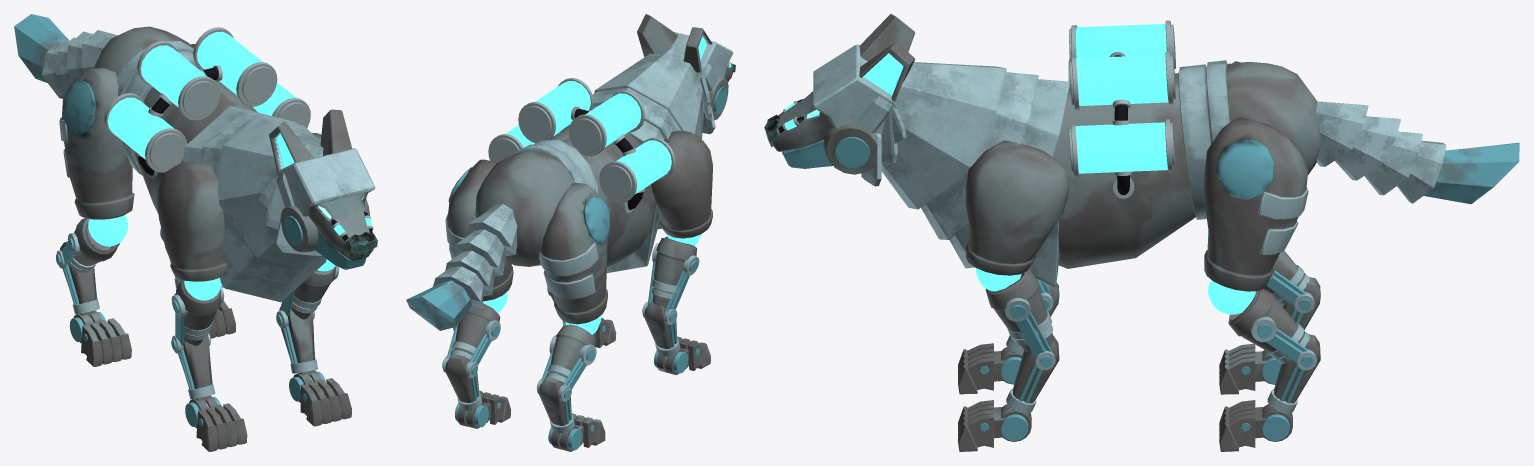
The model's file is RCP_v06k_UV_SP_v01a.glb.
The picture shows the model from 3 angles, left to right: view 1: azimuth 30°, elevation 25°; view 2: azimuth 150°, elevation 25°; view 3: azimuth 270°, elevation 25°; orthographic projection. The views are drawn at different scales.
Visible parts, largest first — view 1: FCSET_Neck_Plates_1_001_0p018_0p591_0p758 group5 Body Neck_P, FCSET_Upper_Leg_001_0p229_0p094_0p247 Leggies group5 Front_L, FCSET_Upper_Leg_001_0p615_0p907_0p416 Leggies group5 Back_Le, FCSET_Head_001_0p397_0p023_0p537 group5 Head Head, FCSET_Neck_Plates_2_001_0p715_0p194_0p632 group5 Body Neck_P, FCSET_Neck_Plates_3_001_0p648_0p472_0p743 group5 Body Neck_P, FCSET_Snoot_001_0p925_0p677_0p979 group5 Head Snoot, FCSET_Torso_001_0p143_0p416_0p949 group5 Torso Body, FCSET_Glass_Cannister_001_0p877_0p636_0p906 group5 Body_Cann, FCSET_Glass_Cannister_001_0p408_0p034_0p085 group5 Body_Cann, FCSET_Glass_Cannister_001_0p631_0p954_0p94 group5 Left_Canni, FCSET_Tail_Plates_5_001_0p482_0p622_0p747 group5 Tail Tail_P (+45 smaller); view 2: FCSET_Upper_Leg_001_0p615_0p907_0p416 Leggies group5 Back_Le, FCSET_Rump_001_0p273_0p546_0p154 group5 Body Rump, FCSET_Upper_Leg_001_0p229_0p094_0p247 Leggies group5 Front_L, FCSET_Neck_Plates_1_001_0p018_0p591_0p758 group5 Body Neck_P, FCSET_Torso_001_0p143_0p416_0p949 group5 Torso Body, FCSET_Upper_Leg_001_0p023_0p816_0p848 Back_Leg_1 Leggies gro, FCSET_Tail_Plates_5_001_0p482_0p622_0p747 group5 Tail Tail_P, FCSET_Glass_Cannister_001_0p877_0p636_0p906 group5 Body_Cann, FCSET_Glass_Cannister_001_0p408_0p034_0p085 group5 Body_Cann, FCSET_Back_Top_Leg_3_001_0p551_0p821_0p874 Leggies group5 Ba, FCSET_Glass_Cannister_001_0p631_0p954_0p94 group5 Left_Canni, FCSET_Tail_Plates_1_001_0p296_0p871_0p455 group5 Tail Tail_P (+33 smaller); view 3: FCSET_Torso_001_0p143_0p416_0p949 group5 Torso Body, FCSET_Neck_Plates_1_001_0p018_0p591_0p758 group5 Body Neck_P, FCSET_Upper_Leg_001_0p023_0p816_0p848 Back_Leg_1 Leggies gro, FCSET_Upper_Leg_001_0p888_0p04_0p125 Leggies group5 Front_Le, FCSET_Rump_001_0p273_0p546_0p154 group5 Body Rump, FCSET_Neck_Plates_2_001_0p715_0p194_0p632 group5 Body Neck_P, FCSET_Glass_Cannister_001_0p752_0p339_0p474 group5 Left_Cann, FCSET_Glass_Cannister_001_0p631_0p954_0p94 group5 Left_Canni, FCSET_Head_001_0p397_0p023_0p537 group5 Head Head, FCSET_Tail_Plates_5_001_0p482_0p622_0p747 group5 Tail Tail_P, FCSET_Waist_Wrap_1_001_0p61_0p539_0p742 group5 Body Waist_Wr, FCSET_Neck_Plates_3_001_0p648_0p472_0p743 group5 Body Neck_P (+24 smaller).
Boxes of the visible parts, x1=… form: FCSET_Neck_Plates_1_001_0p018_0p591_0p758 group5 Body Neck_P: x1=217, y1=114, x2=323, y2=269; FCSET_Upper_Leg_001_0p229_0p094_0p247 Leggies group5 Front_L: x1=157, y1=161, x2=227, y2=281; FCSET_Upper_Leg_001_0p615_0p907_0p416 Leggies group5 Back_Le: x1=59, y1=67, x2=134, y2=219; FCSET_Head_001_0p397_0p023_0p537 group5 Head Head: x1=276, y1=148, x2=375, y2=216; FCSET_Neck_Plates_2_001_0p715_0p194_0p632 group5 Body Neck_P: x1=200, y1=110, x2=324, y2=285; FCSET_Neck_Plates_3_001_0p648_0p472_0p743 group5 Body Neck_P: x1=183, y1=106, x2=326, y2=302; FCSET_Snoot_001_0p925_0p677_0p979 group5 Head Snoot: x1=308, y1=192, x2=373, y2=260; FCSET_Torso_001_0p143_0p416_0p949 group5 Torso Body: x1=135, y1=67, x2=257, y2=213; FCSET_Glass_Cannister_001_0p877_0p636_0p906 group5 Body_Cann: x1=141, y1=45, x2=207, y2=107; FCSET_Glass_Cannister_001_0p408_0p034_0p085 group5 Body_Cann: x1=107, y1=97, x2=174, y2=159; FCSET_Glass_Cannister_001_0p631_0p954_0p94 group5 Left_Canni: x1=197, y1=31, x2=262, y2=95; FCSET_Tail_Plates_5_001_0p482_0p622_0p747 group5 Tail Tail_P: x1=14, y1=14, x2=68, y2=82; FCSET_Upper_Leg_001_0p615_0p907_0p416 Leggies group5 Back_Le: x1=539, y1=183, x2=607, y2=324; FCSET_Rump_001_0p273_0p546_0p154 group5 Body Rump: x1=475, y1=151, x2=574, y2=266; FCSET_Upper_Leg_001_0p229_0p094_0p247 Leggies group5 Front_L: x1=651, y1=130, x2=712, y2=238; FCSET_Neck_Plates_1_001_0p018_0p591_0p758 group5 Body Neck_P: x1=594, y1=48, x2=703, y2=138; FCSET_Torso_001_0p143_0p416_0p949 group5 Torso Body: x1=550, y1=126, x2=658, y2=266; FCSET_Upper_Leg_001_0p023_0p816_0p848 Back_Leg_1 Leggies gro: x1=445, y1=159, x2=513, y2=301; FCSET_Tail_Plates_5_001_0p482_0p622_0p747 group5 Tail Tail_P: x1=406, y1=280, x2=471, y2=330; FCSET_Glass_Cannister_001_0p877_0p636_0p906 group5 Body_Cann: x1=586, y1=93, x2=641, y2=146; FCSET_Glass_Cannister_001_0p408_0p034_0p085 group5 Body_Cann: x1=616, y1=140, x2=671, y2=194; FCSET_Back_Top_Leg_3_001_0p551_0p821_0p874 Leggies group5 Ba: x1=653, y1=236, x2=697, y2=308; FCSET_Glass_Cannister_001_0p631_0p954_0p94 group5 Left_Canni: x1=535, y1=81, x2=590, y2=134; FCSET_Tail_Plates_1_001_0p296_0p871_0p455 group5 Tail Tail_P: x1=467, y1=204, x2=517, y2=256; FCSET_Torso_001_0p143_0p416_0p949 group5 Torso Body: x1=1052, y1=73, x2=1207, y2=268; FCSET_Neck_Plates_1_001_0p018_0p591_0p758 group5 Body Neck_P: x1=881, y1=62, x2=1006, y2=209; FCSET_Upper_Leg_001_0p023_0p816_0p848 Back_Leg_1 Leggies gro: x1=1204, y1=117, x2=1308, y2=291; FCSET_Upper_Leg_001_0p888_0p04_0p125 Leggies group5 Front_Le: x1=965, y1=140, x2=1069, y2=275; FCSET_Rump_001_0p273_0p546_0p154 group5 Body Rump: x1=1206, y1=62, x2=1322, y2=175; FCSET_Neck_Plates_2_001_0p715_0p194_0p632 group5 Body Neck_P: x1=921, y1=72, x2=1038, y2=239; FCSET_Glass_Cannister_001_0p752_0p339_0p474 group5 Left_Cann: x1=1075, y1=122, x2=1167, y2=173; FCSET_Glass_Cannister_001_0p631_0p954_0p94 group5 Left_Canni: x1=1076, y1=54, x2=1168, y2=105; FCSET_Head_001_0p397_0p023_0p537 group5 Head Head: x1=813, y1=44, x2=899, y2=135; FCSET_Tail_Plates_5_001_0p482_0p622_0p747 group5 Tail Tail_P: x1=1424, y1=142, x2=1519, y2=204; FCSET_Waist_Wrap_1_001_0p61_0p539_0p742 group5 Body Waist_Wr: x1=1178, y1=64, x2=1210, y2=219; FCSET_Neck_Plates_3_001_0p648_0p472_0p743 group5 Body Neck_P: x1=949, y1=79, x2=1070, y2=268.
Size of the model in its own units: 0.0281 by 0.0507 by 0.0905.
Materials: 3 (3 with a texture image).
